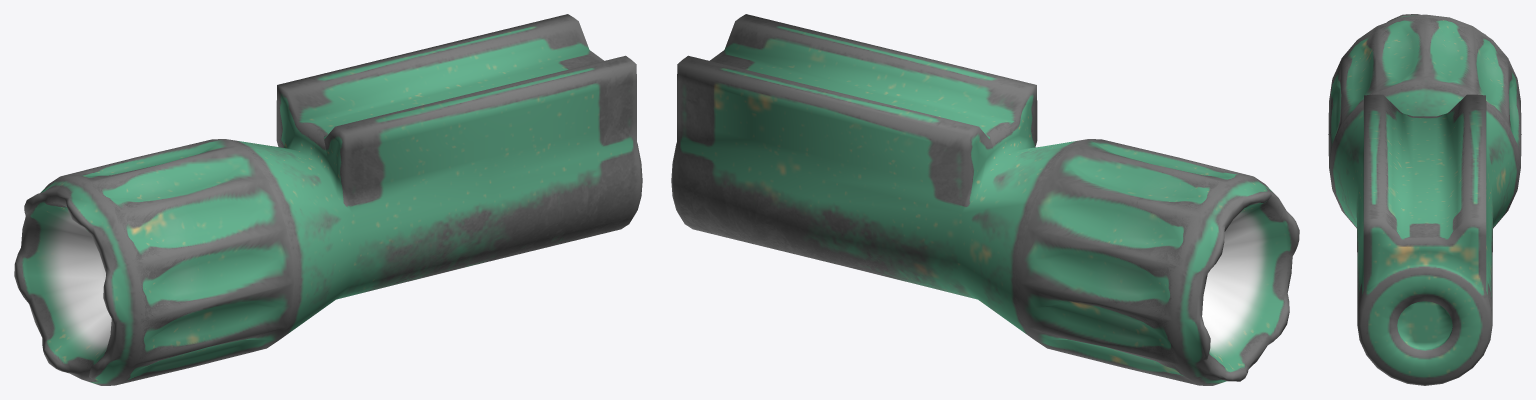
File: Flash_Light.fbx
3 renders of one model, left to right at view 1: azimuth 30°, elevation 25°; view 2: azimuth 150°, elevation 25°; view 3: azimuth 270°, elevation 25°, orthographic. The views are drawn at different scales.
Visible parts, largest first — view 1: Flash_Light; view 2: Flash_Light; view 3: Flash_Light.
Boxes of the visible parts, x1,y1,x2,y2 form: Flash_Light: [14, 14, 642, 385]; Flash_Light: [671, 14, 1299, 385]; Flash_Light: [1328, 14, 1521, 385].
Bounding box in the file's own units: 0.1013 × 0.0382 × 0.035.
